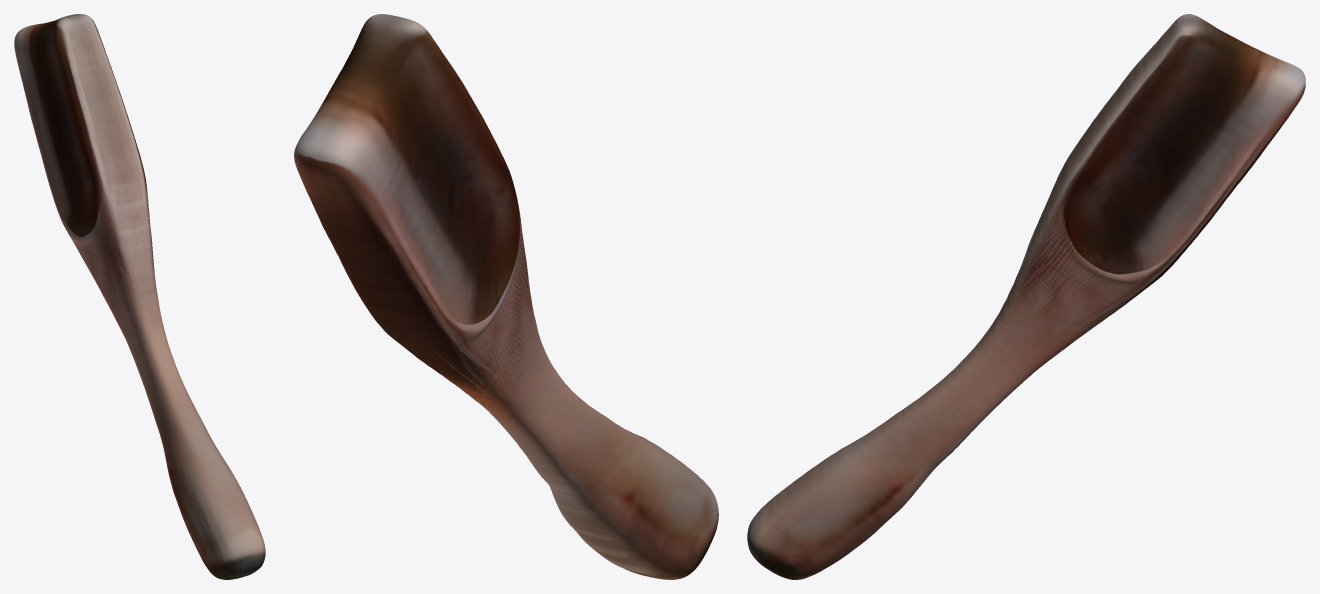
File: tripo_convert_abf68910-9c95-4cb4-874e-e7c9df6437b7.fbx
3 renders of one model, left to right at view 1: azimuth 30°, elevation 25°; view 2: azimuth 150°, elevation 25°; view 3: azimuth 270°, elevation 25°, orthographic. The views are drawn at different scales.
Visible parts, largest first — view 1: tripo_node_abf68910; view 2: tripo_node_abf68910; view 3: tripo_node_abf68910.
Boxes of the visible parts, x1,y1,x2,y2 form: tripo_node_abf68910: [14, 14, 265, 579]; tripo_node_abf68910: [294, 14, 718, 579]; tripo_node_abf68910: [747, 14, 1305, 579].
Size of the model in its own units: 11.73 by 94.97 by 86.77.
Materials: 1 (1 with a texture image).
